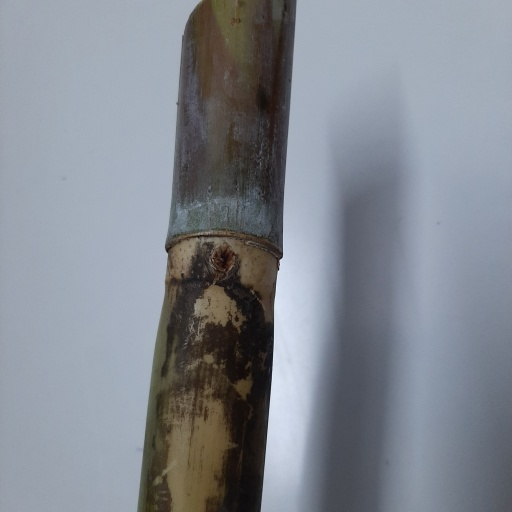Damage_Bud: (211, 240, 236, 276)
